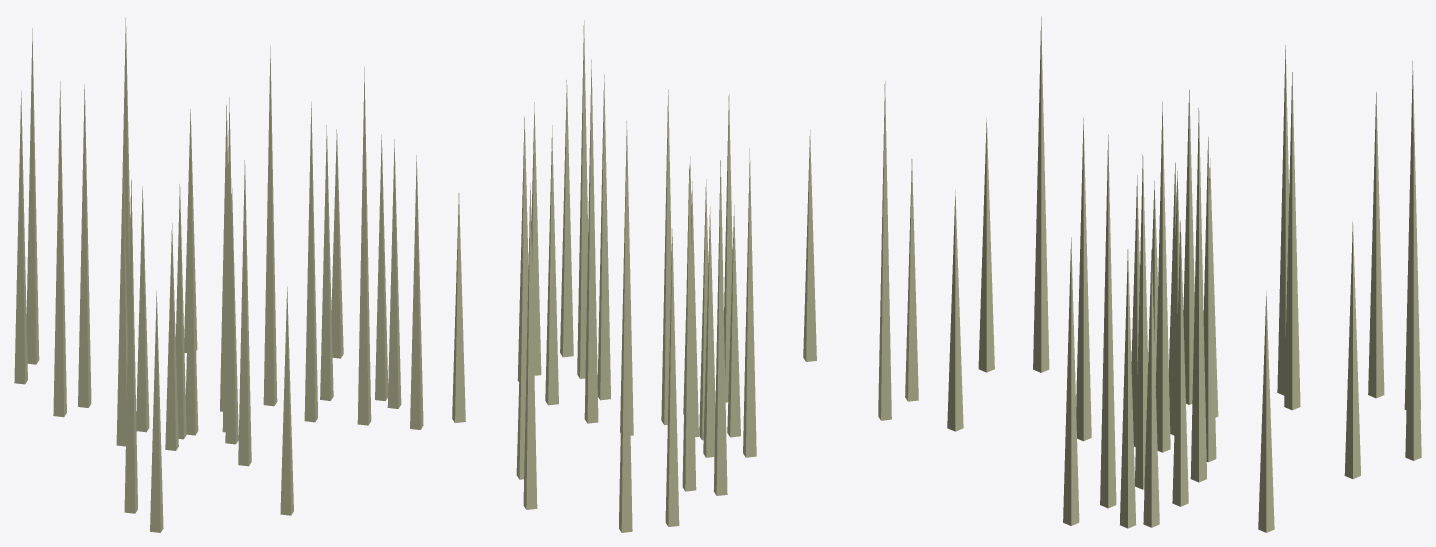
The model's file is canneto.glb.
3 views of the same model, side by side, from view 1: azimuth 30°, elevation 25°; view 2: azimuth 150°, elevation 25°; view 3: azimuth 270°, elevation 25° (orthographic). The views are drawn at different scales.
Parts seen in each view (by area): view 1: canneto; view 2: canneto; view 3: canneto.
Part boxes in pixels (x1,y1,x2,y2): canneto: (14,17,423,532); canneto: (452,20,918,532); canneto: (947,16,1421,532).
Size of the model in its own units: 2.42 by 2.54 by 2.9.
